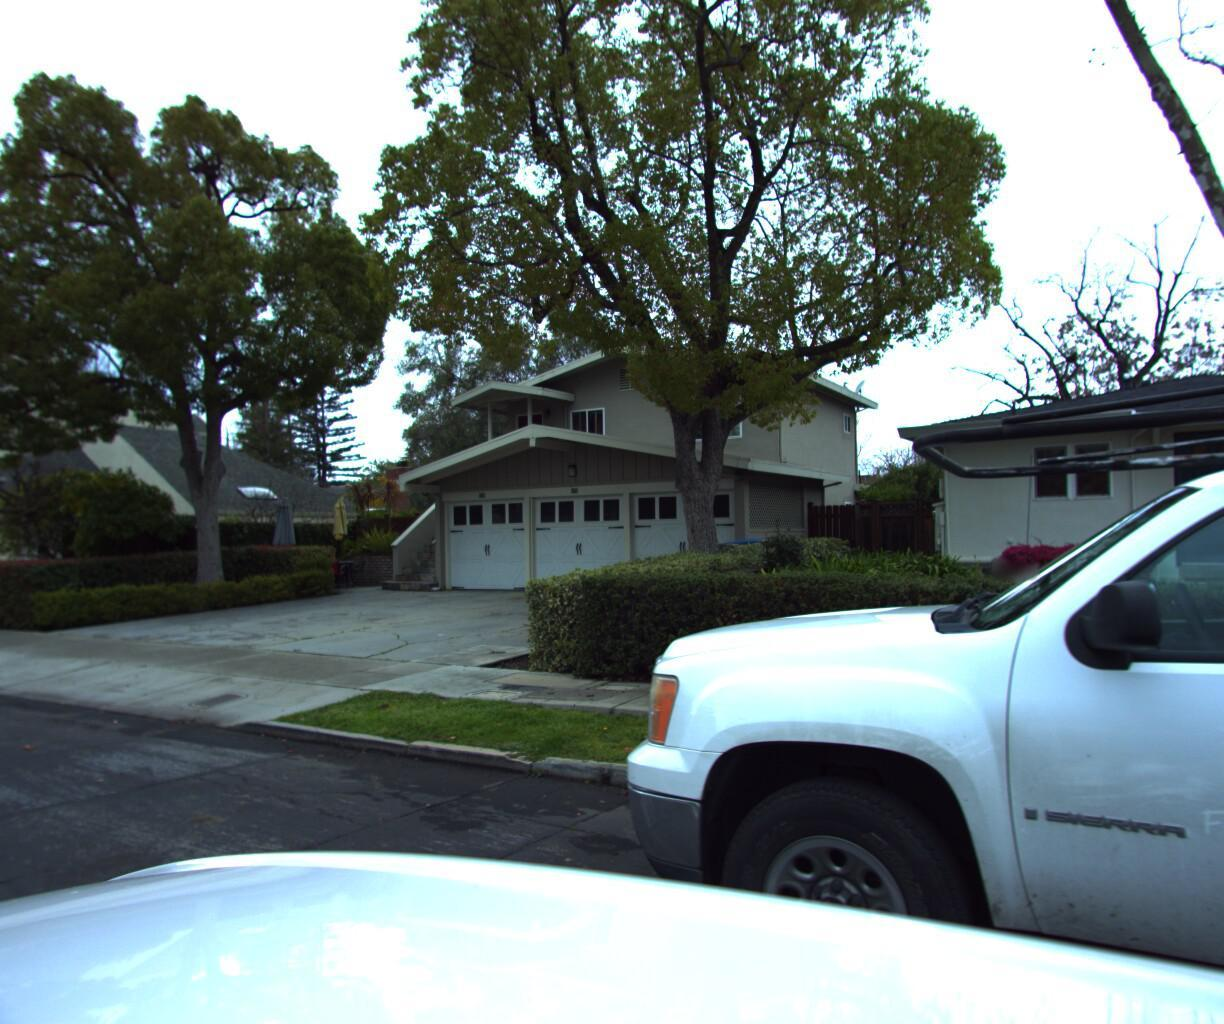car: (522, 0, 1224, 1024)
